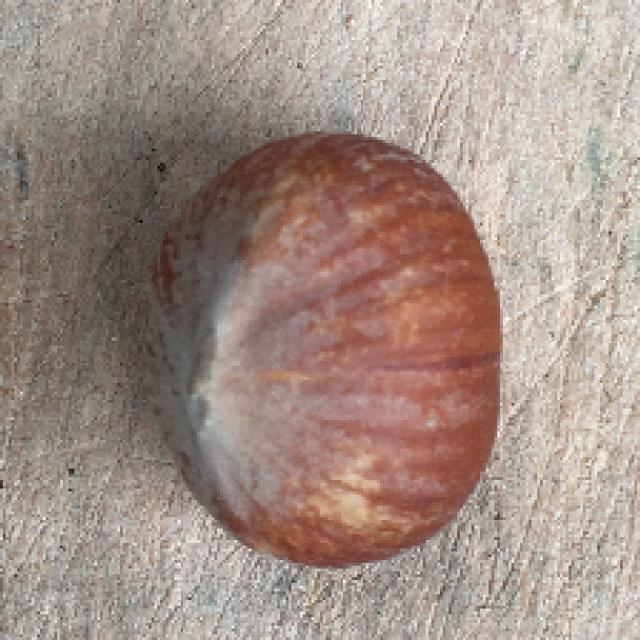qualityHazelnut: (160, 126, 507, 571)
